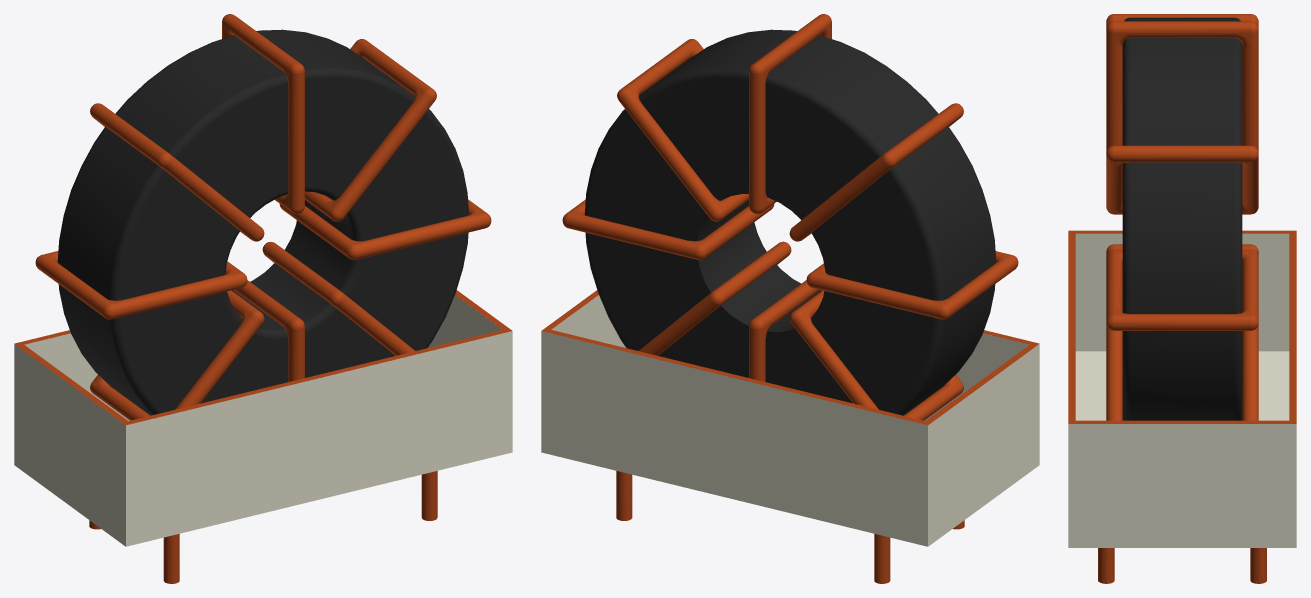
Rendered from kc-l_commonmode_toroid_vertical_l30.5mm_w15.2mm_px10.16mm_py20.32mm_bourns_8100.glb.
The picture shows the model from 3 angles, left to right: view 1: azimuth 30°, elevation 25°; view 2: azimuth 150°, elevation 25°; view 3: azimuth 270°, elevation 25°; orthographic projection. The views are drawn at different scales.
Parts seen in each view (by area): view 1: 0_0_0_0, 0.75_0.75_0.6666666666666666_0, 0.4166666666666667_0.08333333333333333_0_0; view 2: 0_0_0_0, 0.75_0.75_0.6666666666666666_0, 0.4166666666666667_0.08333333333333333_0_0; view 3: 0_0_0_0, 0.75_0.75_0.6666666666666666_0, 0.4166666666666667_0.08333333333333333_0_0.
Part boxes in pixels (bbox=[...]): 0_0_0_0: bbox=[57, 29, 469, 415]; 0.75_0.75_0.6666666666666666_0: bbox=[14, 295, 512, 546]; 0.4166666666666667_0.08333333333333333_0_0: bbox=[14, 14, 512, 583]; 0_0_0_0: bbox=[584, 29, 996, 415]; 0.75_0.75_0.6666666666666666_0: bbox=[541, 295, 1039, 546]; 0.4166666666666667_0.08333333333333333_0_0: bbox=[541, 14, 1039, 583]; 0_0_0_0: bbox=[1122, 17, 1242, 420]; 0.75_0.75_0.6666666666666666_0: bbox=[1068, 233, 1296, 547]; 0.4166666666666667_0.08333333333333333_0_0: bbox=[1068, 14, 1296, 583].
Size of the model in its own units: 3.05 by 3.63 by 1.52.
